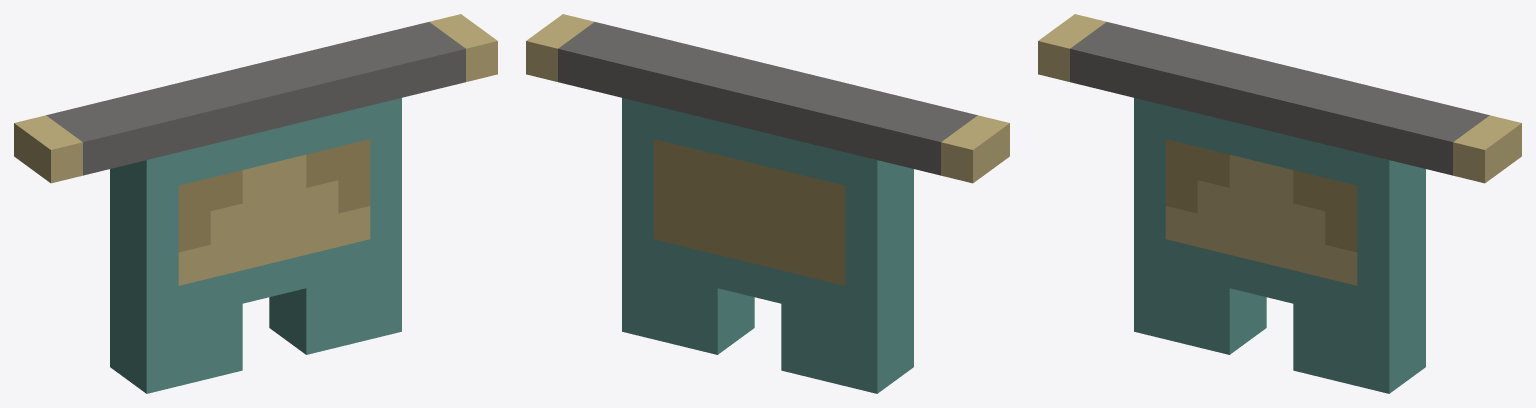
The model's file is banner_ul.glb.
3 renders of one model, left to right at view 1: azimuth 30°, elevation 25°; view 2: azimuth 150°, elevation 25°; view 3: azimuth 330°, elevation 25°, orthographic.
Size of the model in its own units: 14 by 8 by 2.
